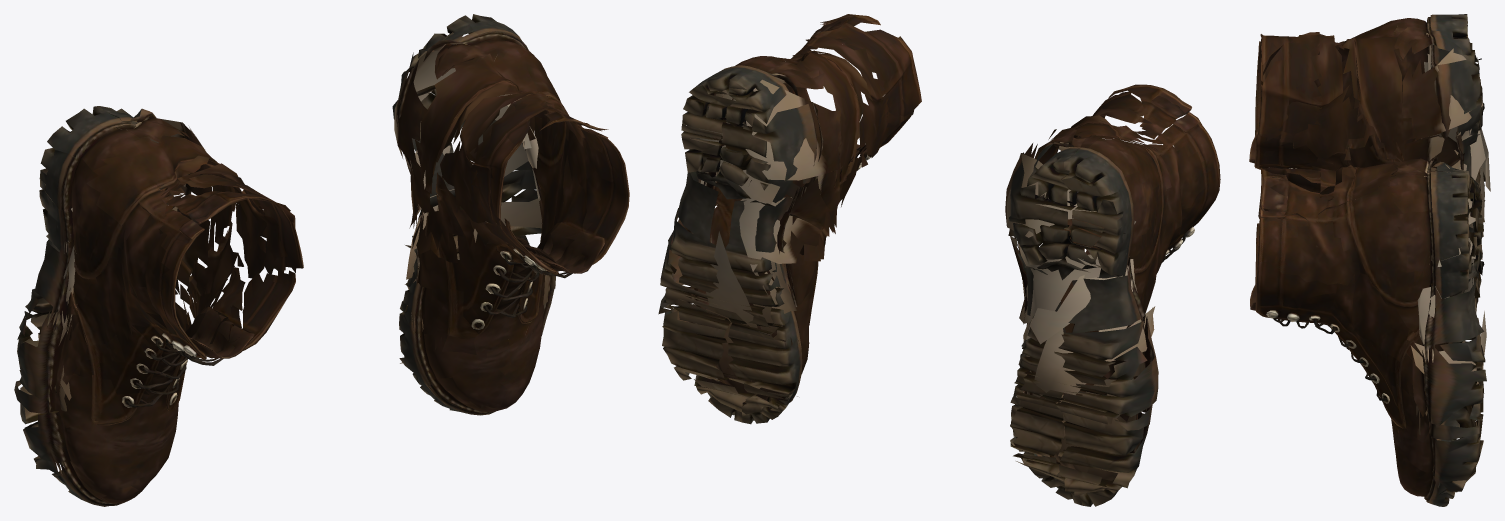
File: adult-base-01.mobile.glb
3 views of the same model, side by side, from view 1: azimuth 30°, elevation 25°; view 2: azimuth 150°, elevation 25°; view 3: azimuth 270°, elevation 25° (orthographic). The views are drawn at different scales.
Visible parts, largest first — view 1: geometry_0; view 2: geometry_0; view 3: geometry_0.
Boxes of the visible parts, bbox=[...] form: geometry_0: bbox=[14, 14, 629, 506]; geometry_0: bbox=[658, 14, 1220, 506]; geometry_0: bbox=[1249, 14, 1490, 506].
Size of the model in its own units: 0.00395 by 0.00277 by 0.00182.
Materials: 1 (1 with a texture image).
